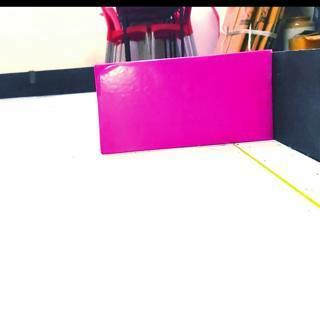xparking: (94, 66, 272, 155)
